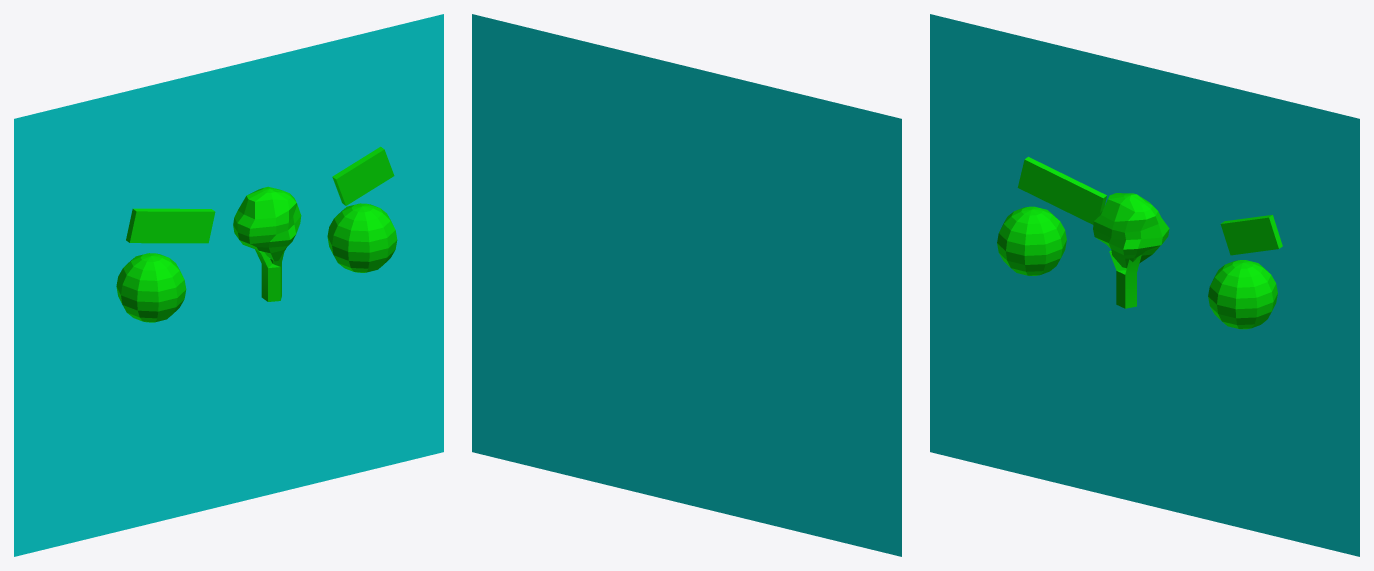
3 renders of one model, left to right at view 1: azimuth 30°, elevation 25°; view 2: azimuth 150°, elevation 25°; view 3: azimuth 330°, elevation 25°, orthographic.
Visible parts, largest first — view 1: SkyPlane_001, Character_002, Character_001, Head_001, Sign_001, Sign_002, Stem_001; view 2: SkyPlane_001; view 3: SkyPlane_001, Head_001, Character_001, Character_002, Sign_001, Sign_002, Stem_001.
Part boxes in pixels (<box>): SkyPlane_001: <box>14,14,443,556</box>; Character_002: <box>116,253,186,322</box>; Character_001: <box>327,203,397,272</box>; Head_001: <box>233,186,301,261</box>; Sign_001: <box>126,208,215,243</box>; Sign_002: <box>332,146,394,205</box>; Stem_001: <box>255,249,284,301</box>; SkyPlane_001: <box>472,14,901,556</box>; SkyPlane_001: <box>930,14,1359,556</box>; Head_001: <box>1093,193,1169,268</box>; Character_001: <box>1208,260,1277,329</box>; Character_002: <box>997,206,1066,275</box>; Sign_001: <box>1017,156,1107,224</box>; Sign_002: <box>1220,215,1282,255</box>; Stem_001: <box>1109,250,1141,308</box>.
Size of the model in its own units: 32.9 by 32.06 by 5.51.
